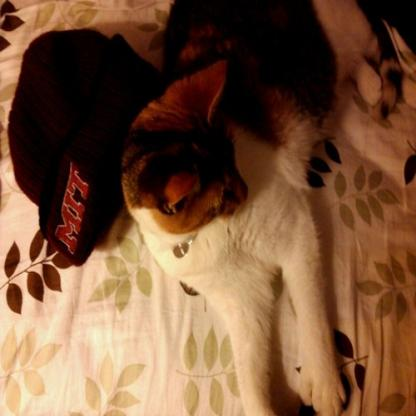Target: (142, 0, 396, 411)
